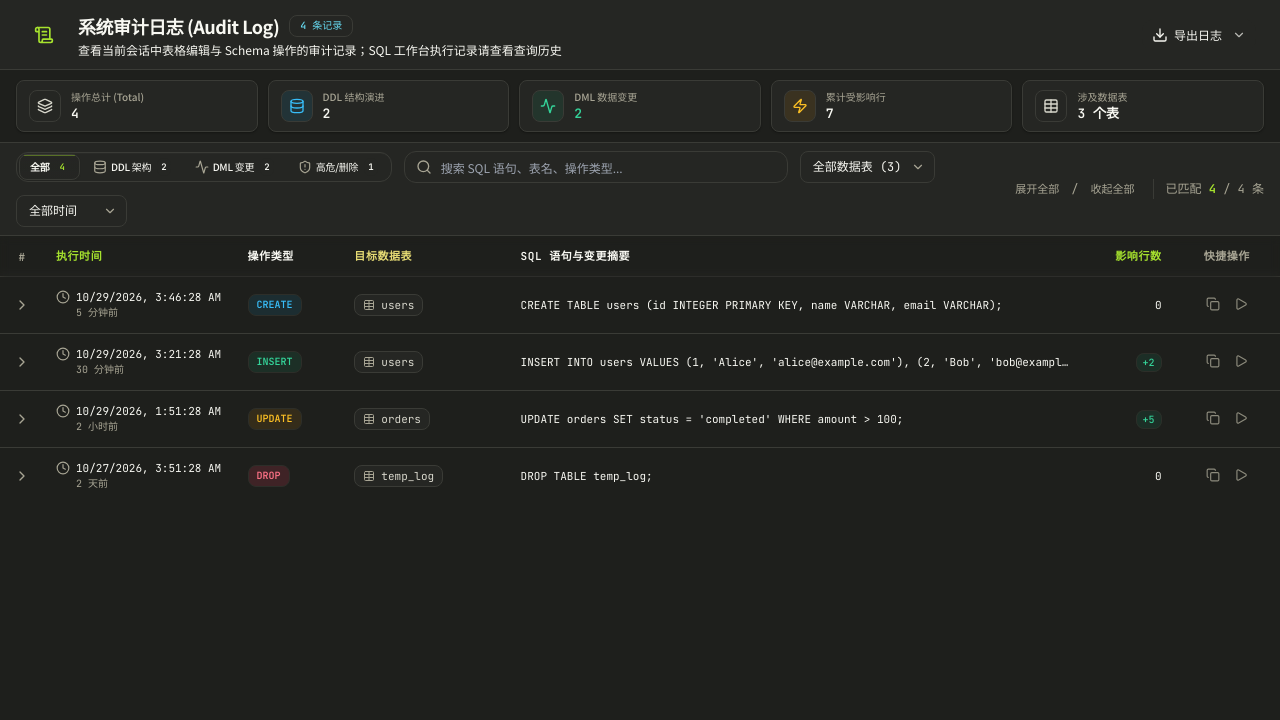
Test: AuditTab Component › filters logs by search input and target table
Type "Alice" into the field with placeholder "搜索 SQL 语句、表名、操作类型..." at {"x": 596, "y": 167}, box [404, 151, 788, 183]
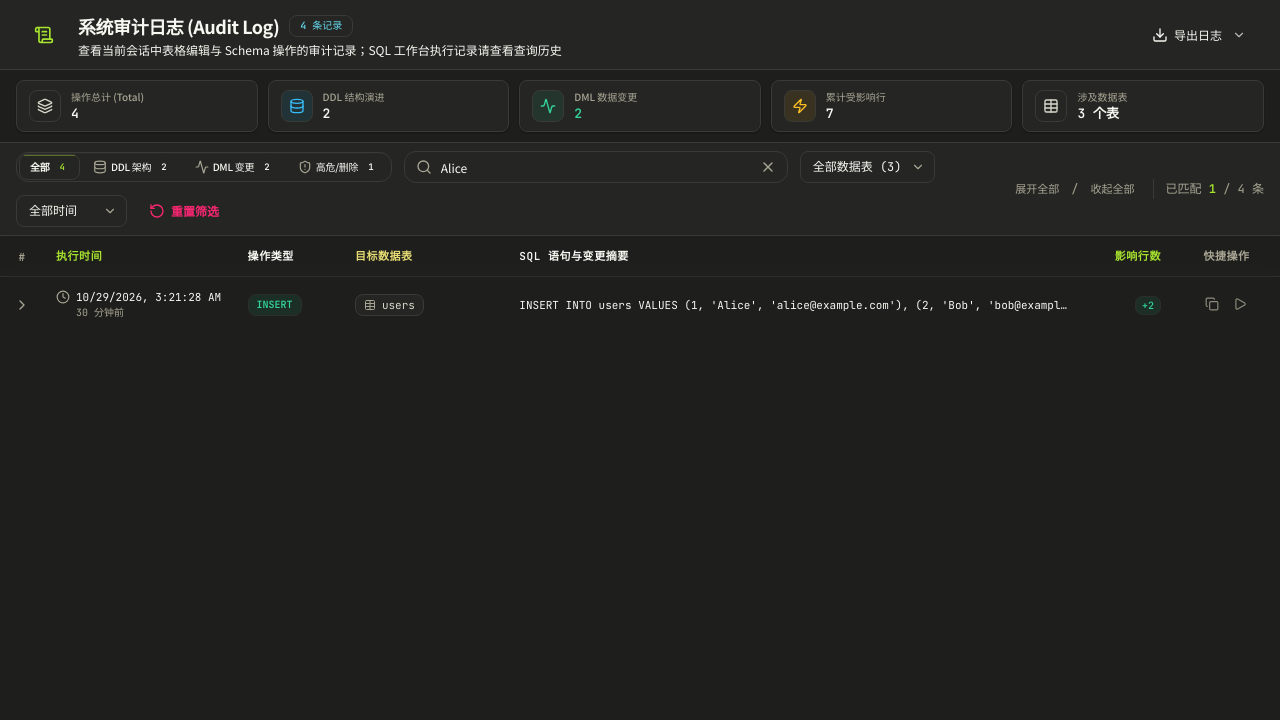
Expected: the text "INSERT INTO users VALUES" is shown, [519, 298, 1083, 312]
Expected: the text "UPDATE orders" is gone
Reset search
Click the button named "清空搜索" at {"x": 768, "y": 167}, box [758, 157, 778, 177]
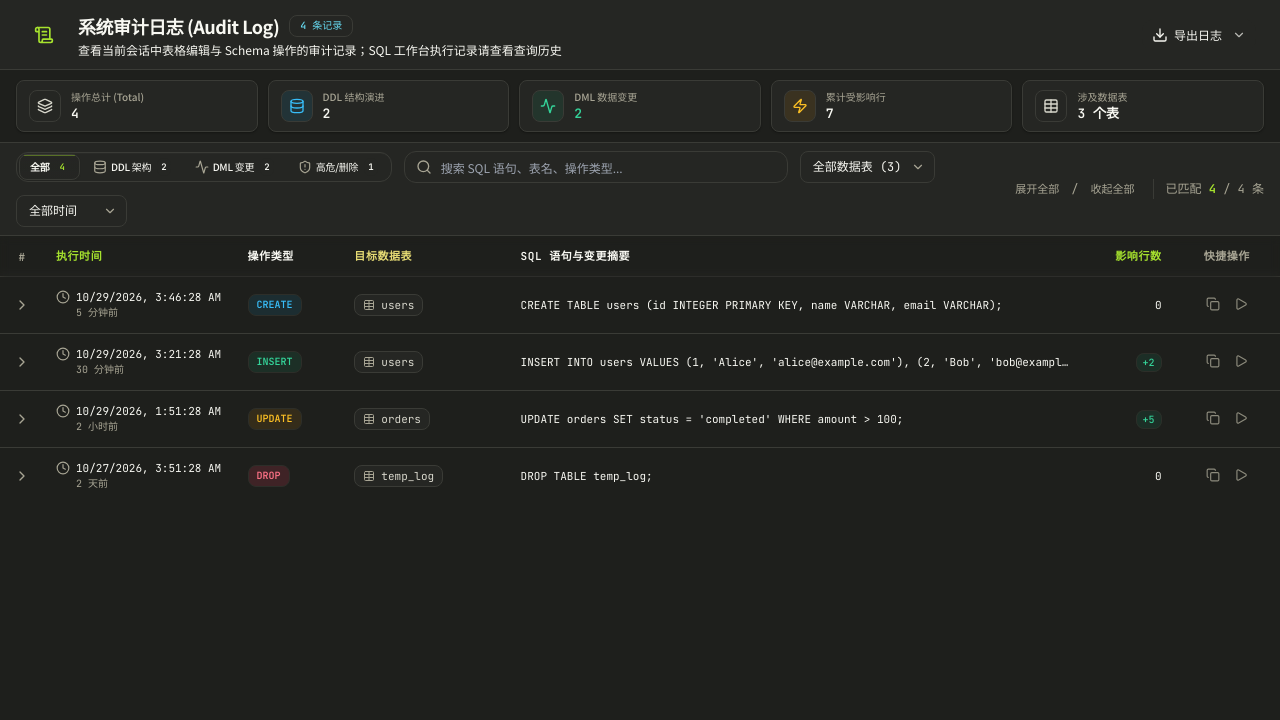
Expected: the text "UPDATE orders SET status = 'completed' WHERE amount > 100;" is shown, [521, 412, 903, 426]
